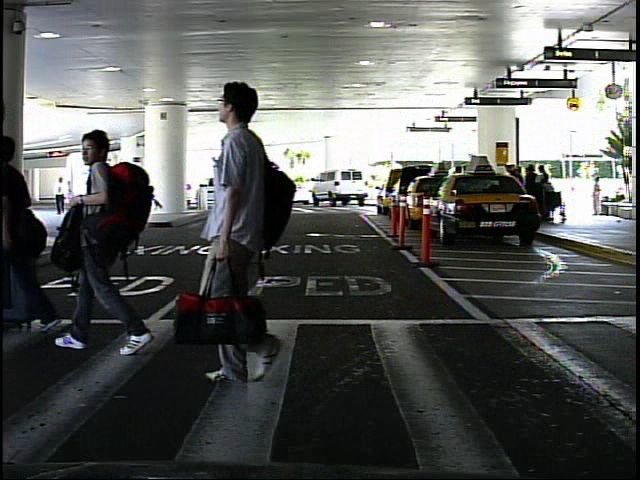person: (202, 74, 306, 391), (56, 120, 154, 358), (2, 115, 60, 355), (588, 173, 607, 219), (52, 171, 70, 218)
